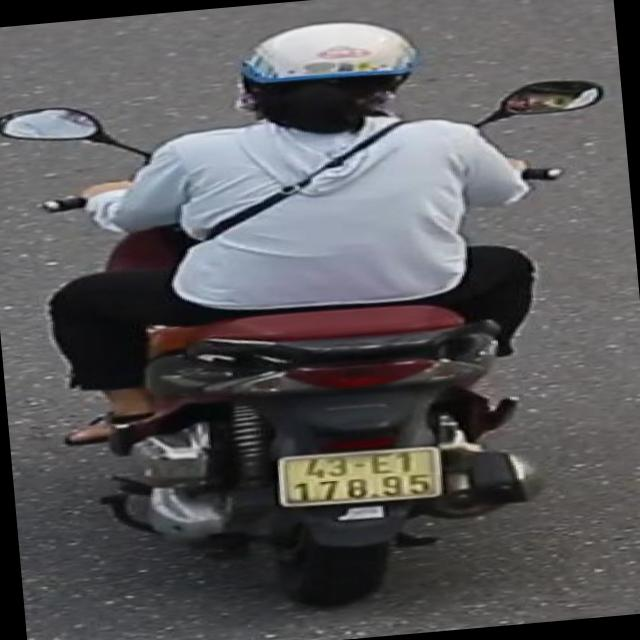LP: (268, 438, 451, 516)
helmet: (232, 10, 425, 111)
